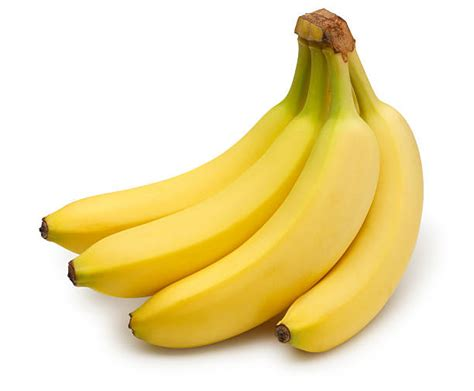banana: (127, 103, 384, 350), (66, 98, 333, 297), (37, 91, 308, 257), (273, 98, 426, 354)
